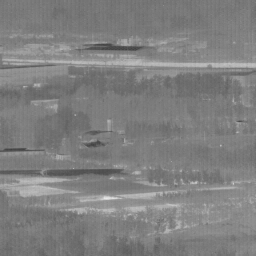aircraft: (74, 114, 76, 116)
